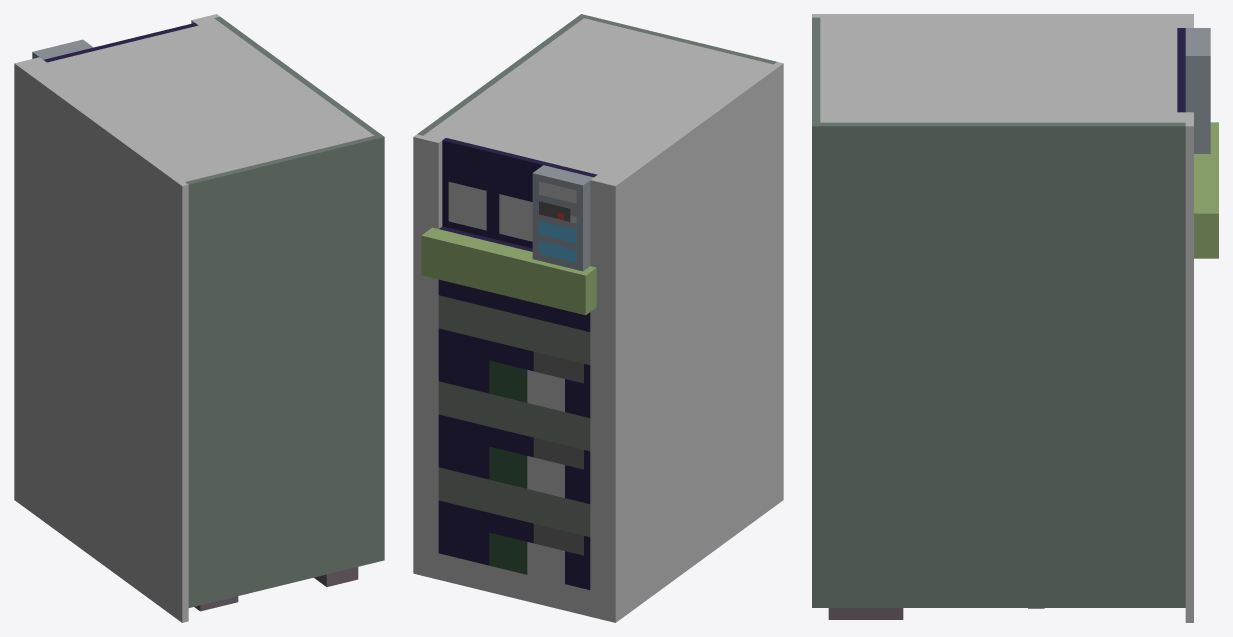
The model's file is Matsumoto8.fbx.
3 views of the same model, side by side, from view 1: azimuth 30°, elevation 25°; view 2: azimuth 150°, elevation 25°; view 3: azimuth 270°, elevation 25° (orthographic). The views are drawn at different scales.
Visible parts, largest first — view 1: palette; view 2: palette; view 3: palette.
Part boxes in pixels (bbox=[...]): palette: bbox=[14, 14, 384, 622]; palette: bbox=[413, 14, 783, 622]; palette: bbox=[812, 14, 1218, 622].
Size of the model in its own units: 32 by 68 by 49.
1 material, 1 textured.
